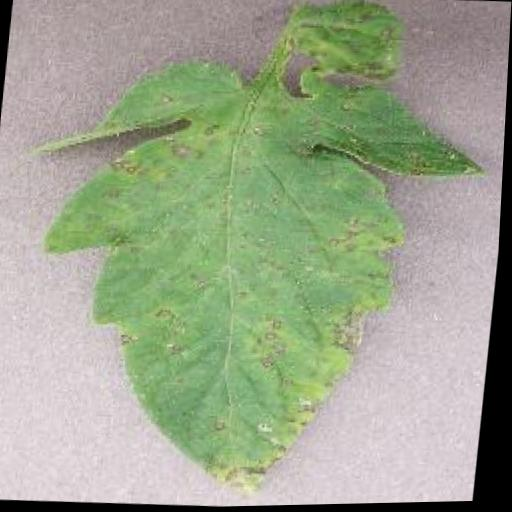Septoria: (0, 0, 497, 506)
